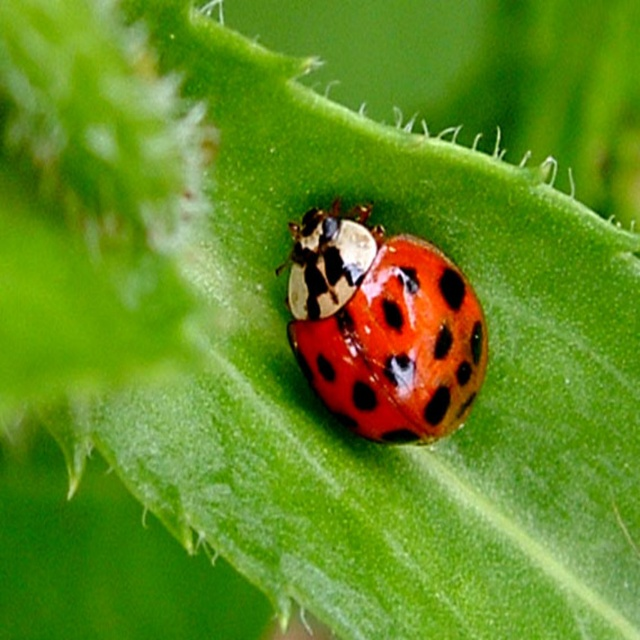Ladybug: (275, 195, 487, 443)
